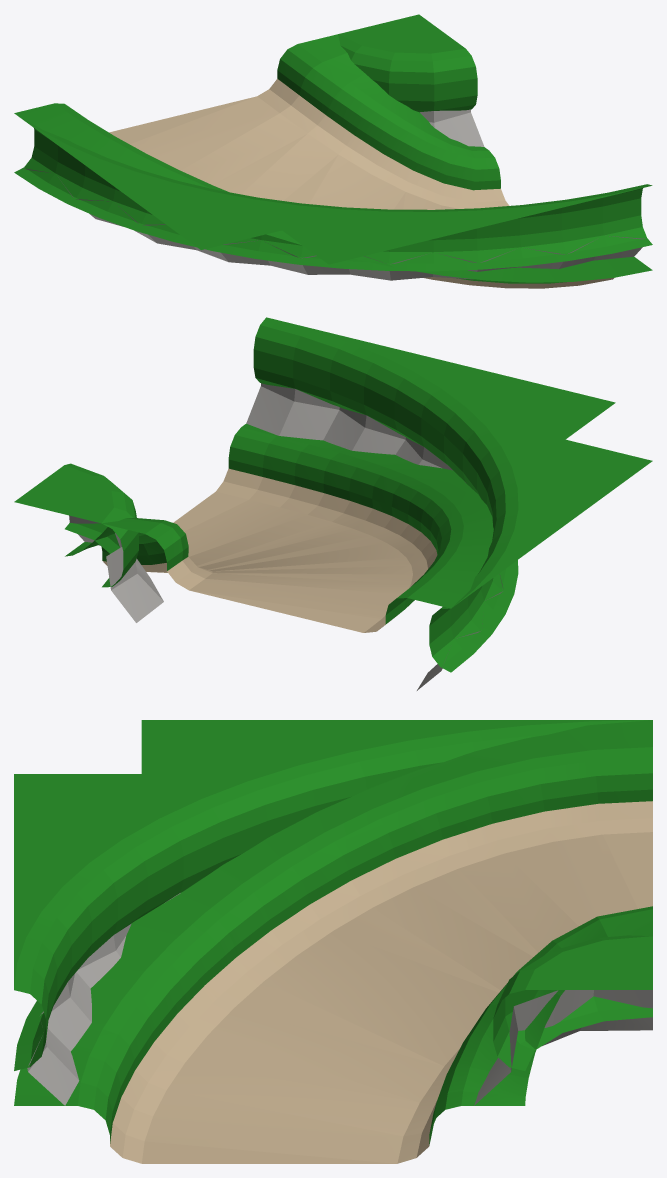
The model's file is Track_Cliff_Curve_Standard_Double_5x5.obj.
The picture shows the model from 3 angles, top to bottom: view 1: azimuth 30°, elevation 25°; view 2: azimuth 150°, elevation 25°; view 3: azimuth 270°, elevation 25°; orthographic projection. The views are drawn at different scales.
Parts seen in each view (by area): view 1: Grass, Dirt, Rock; view 2: Grass, Dirt, Rock; view 3: Grass, Dirt, Rock.
Part boxes in pixels (box(x1,y1,x2,y2)): Grass: box(14, 14, 652, 283); Dirt: box(109, 79, 613, 288); Rock: box(24, 109, 645, 280); Grass: box(14, 317, 652, 672); Dirt: box(103, 468, 437, 632); Rock: box(69, 383, 503, 690); Grass: box(14, 720, 652, 1145); Dirt: box(110, 801, 652, 1163); Rock: box(27, 893, 652, 1105).
Bounding box in the file's own units: 5 × 1.5 × 5.
